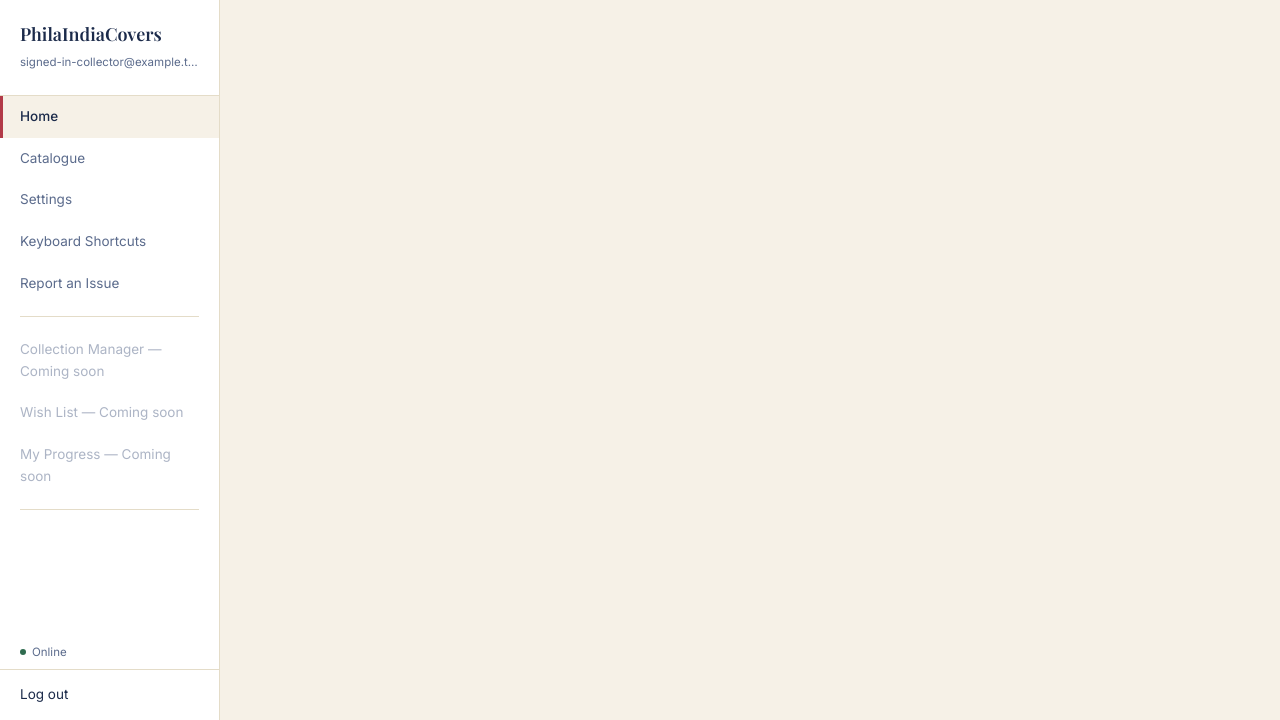
Test: Sidebar › Cancel on the logout-confirm dialog leaves the session untouched
Click the button "Log out". click: (110, 695)
box: x1=0 y1=669 x2=219 y2=719
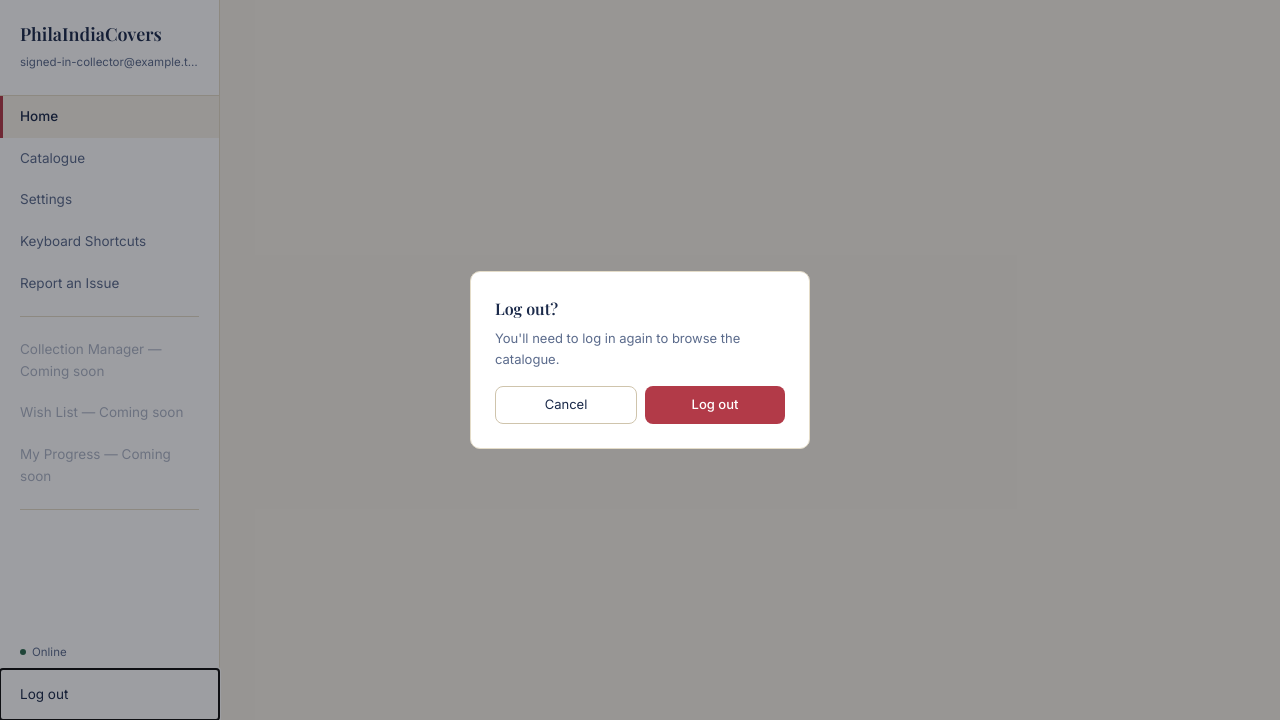
Click the button "Cancel". click: (566, 405)
box: x1=495 y1=386 x2=637 y2=424
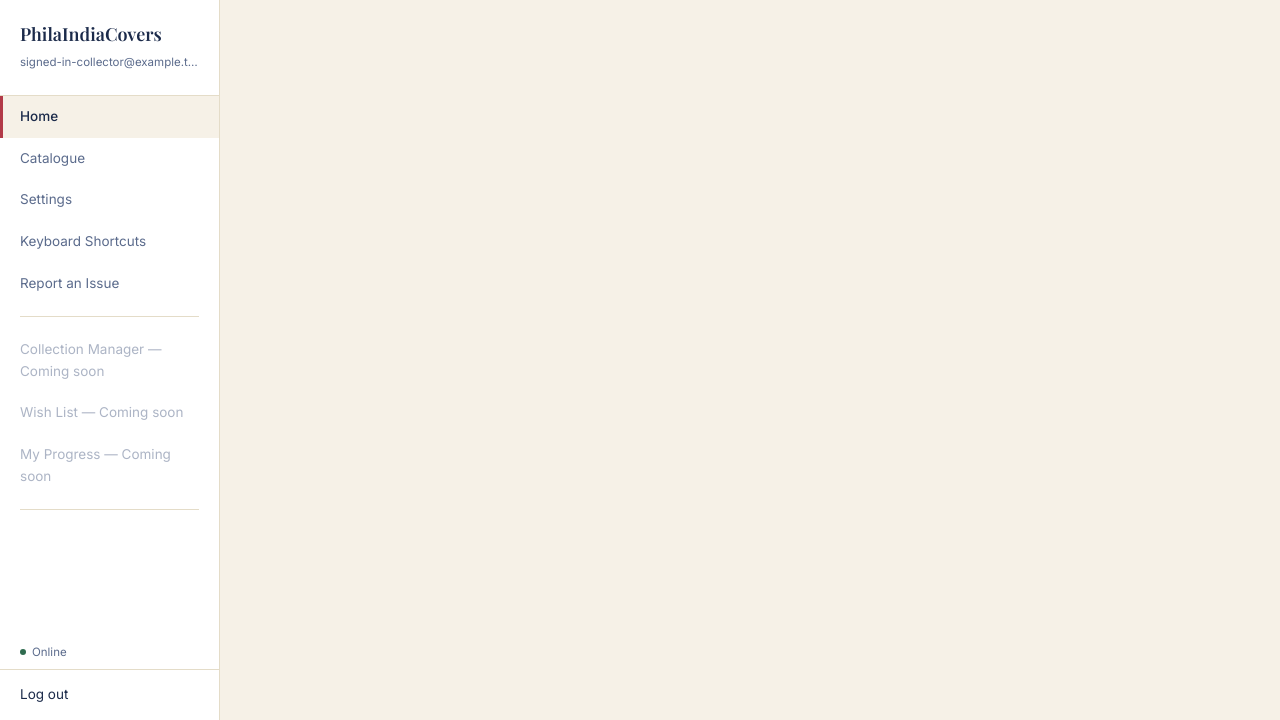
Result: the dialog is gone
